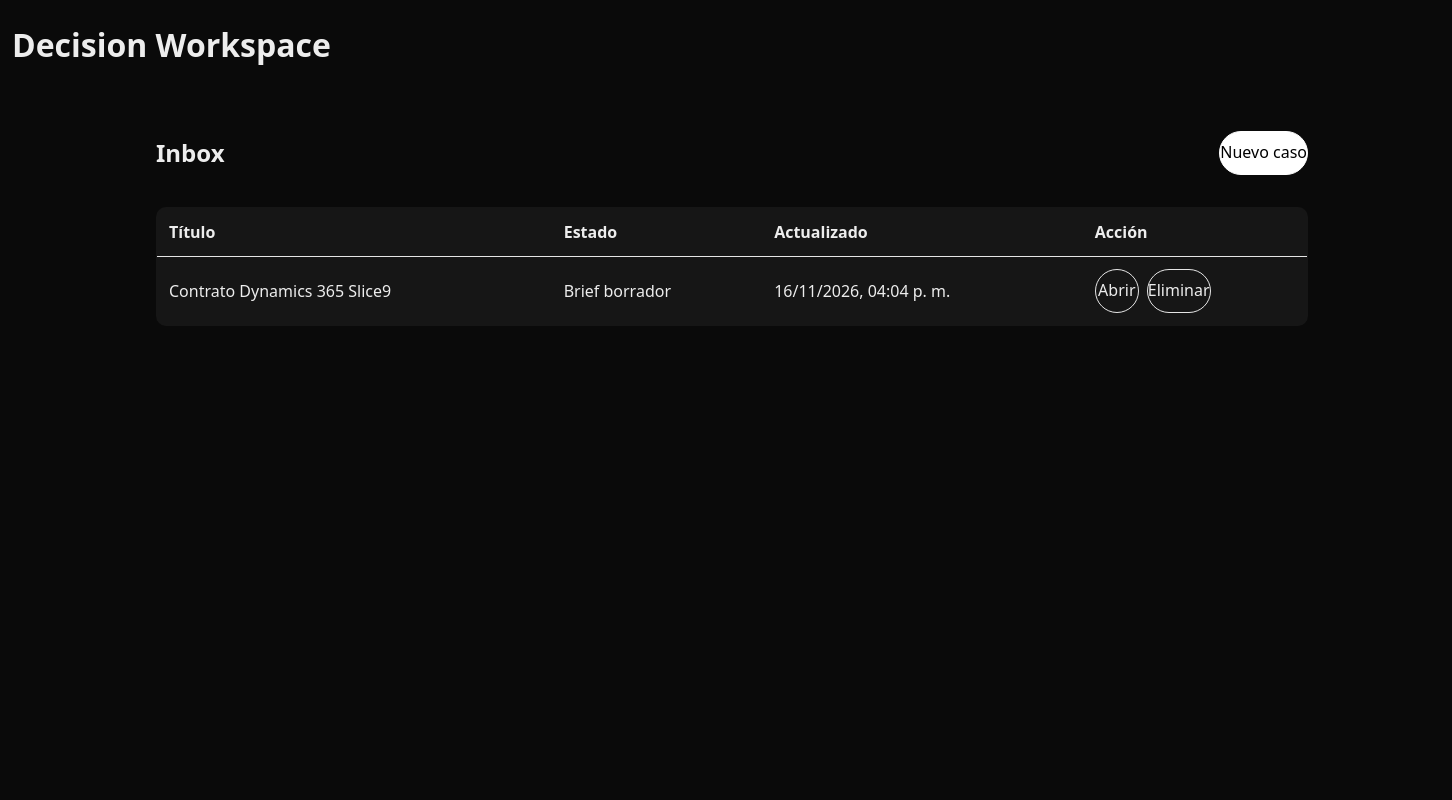
Test: slice9 brief ui › generates brief with jerarquía de vistas y secciones esperadas
The image size is (1452, 800).
Click the button "Abrir" at [1117, 291], box [1095, 269, 1139, 313]
(page scrolled)
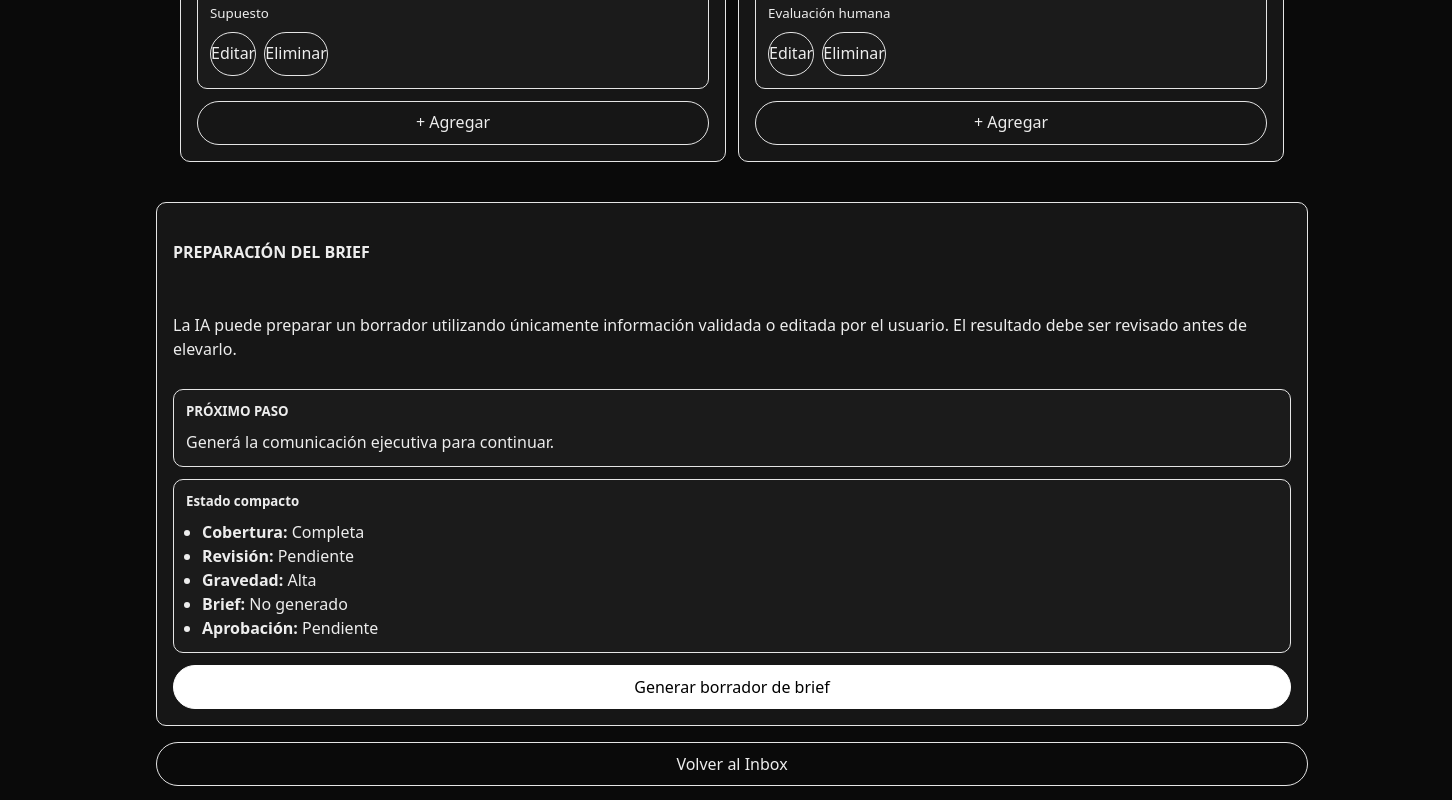
Click the button "Generar borrador de brief" at [732, 687], box [173, 665, 1291, 709]
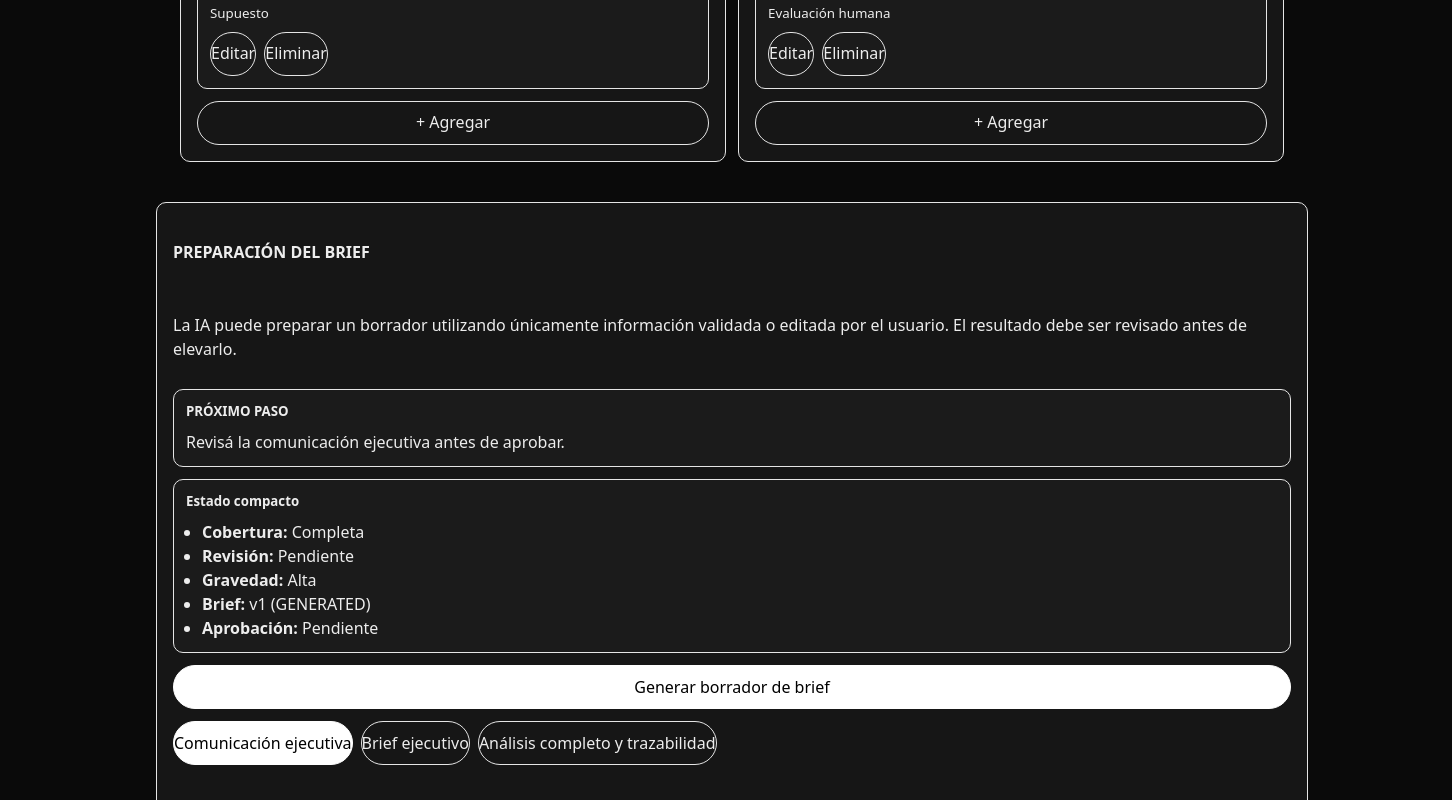
Check: the tab "Comunicación ejecutiva" is shown, box [173, 721, 353, 765]
Check: the tab "Brief ejecutivo" is shown
Check: the tab "Análisis completo y trazabilidad" is shown, box [478, 721, 716, 765]
Click the tab "Brief ejecutivo" at [415, 743], box [361, 721, 470, 765]
(page scrolled)
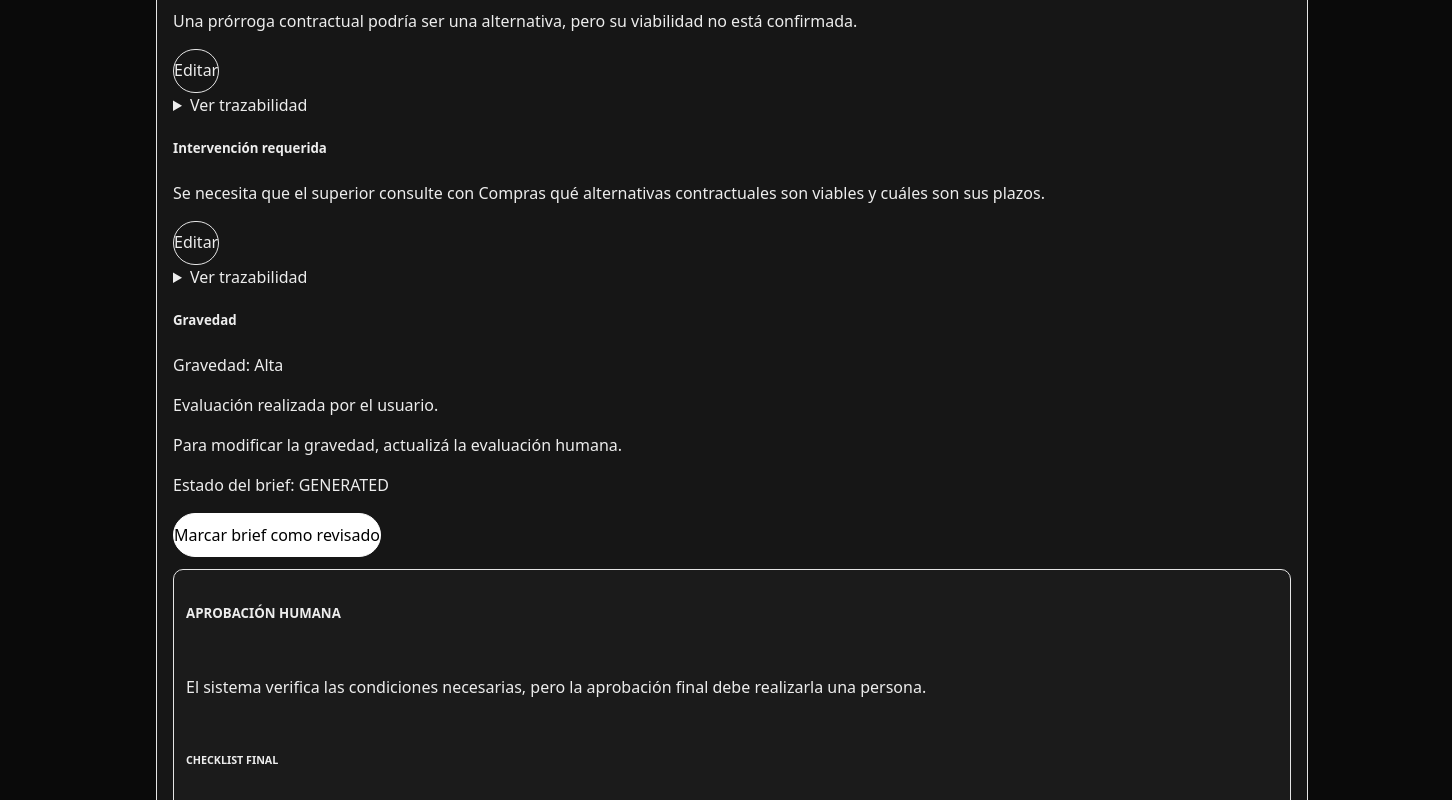
Check: the heading "Intervención requerida" is shown, box [173, 139, 327, 157]
Check: the text "Evaluación realizada por el usuario." is shown, box [173, 394, 438, 416]
Check: the text "Gravedad: Alta" is shown, box [173, 354, 283, 376]
